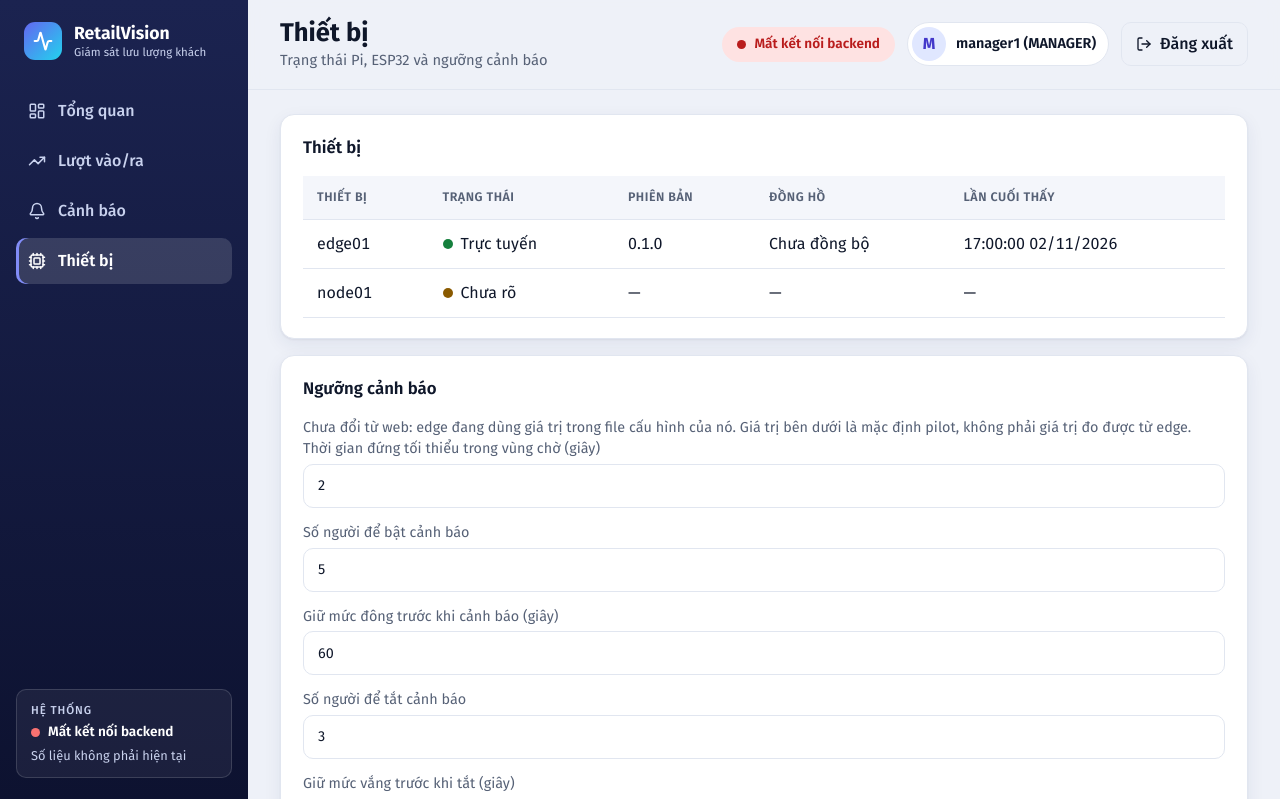
it: trang Thiết bị và đổi ngưỡng › giá trị sai: báo ngay, không gửi gì tới backend
The image size is (1280, 799).
Check: the text with test id "settings-source" is shown, box x1=303 y1=417 x2=1225 y2=438
Replace the text in the field labelled "Số người để tắt cảnh báo" with "5" at [764, 737], box x1=303 y1=715 x2=1225 y2=759
(page scrolled)
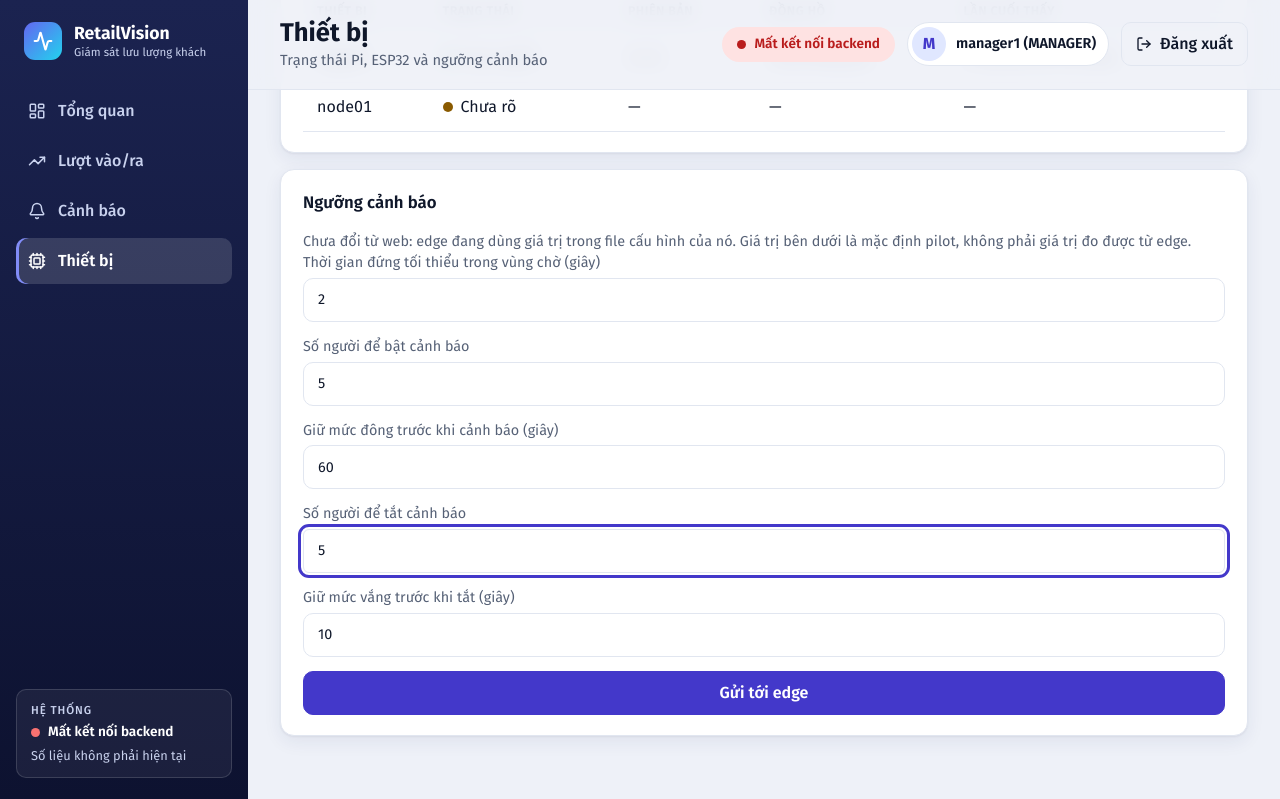
Click the button "Gửi tới edge" at [764, 692], box x1=303 y1=670 x2=1225 y2=714
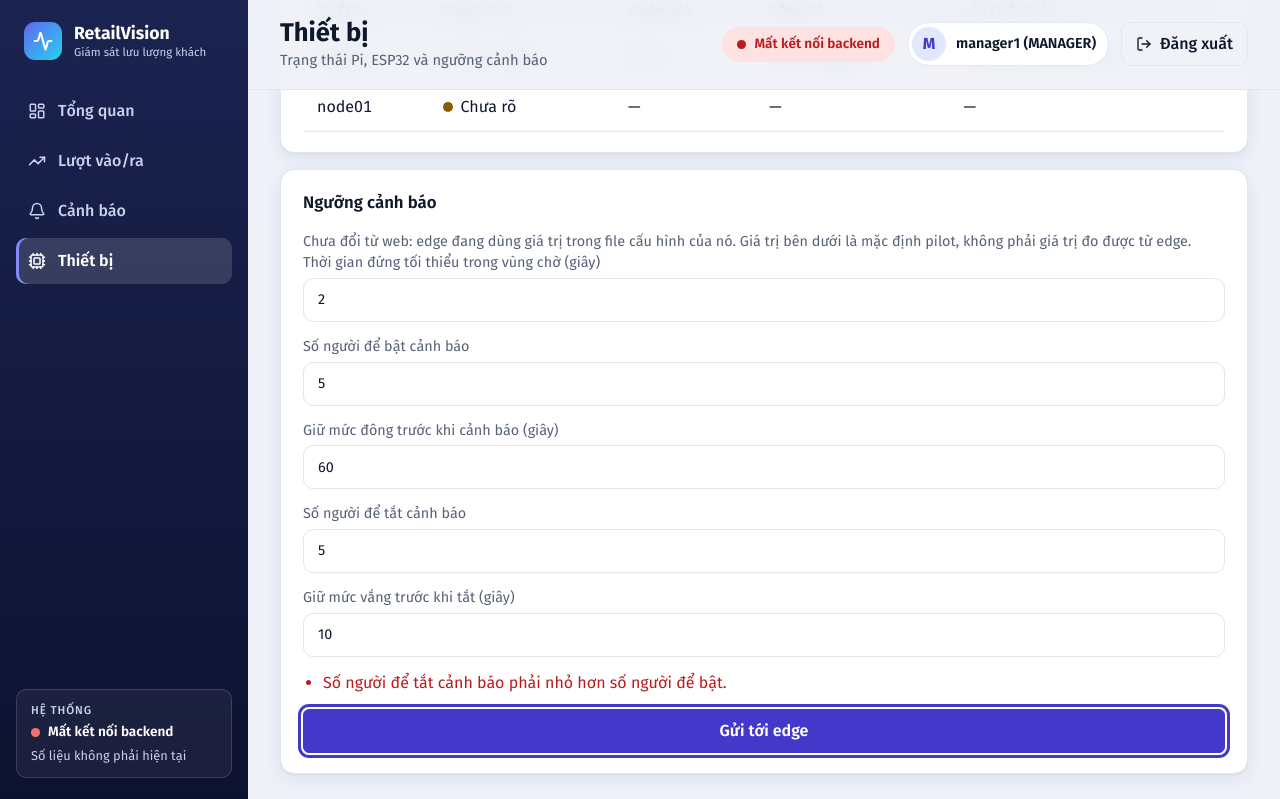
Check: the message "Số người để tắt cảnh báo phải nhỏ hơn số người để bật." is shown, box x1=323 y1=672 x2=727 y2=692
